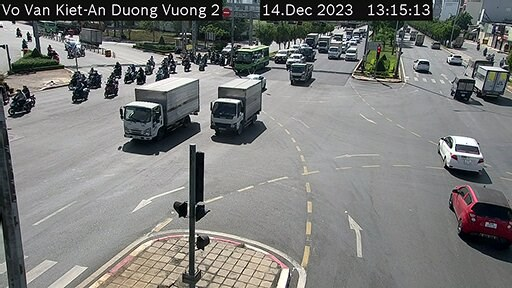bus: (235, 43, 269, 79)
car: (445, 183, 510, 241), (434, 131, 485, 172), (283, 51, 305, 66), (446, 52, 466, 66), (415, 56, 426, 78), (327, 46, 343, 61), (277, 44, 287, 67), (346, 47, 358, 65)
motorbike: (9, 88, 29, 114), (72, 84, 90, 102), (21, 84, 36, 101), (107, 80, 118, 97)
truck: (127, 83, 209, 137), (215, 75, 269, 138), (475, 59, 506, 100), (446, 73, 477, 101), (73, 26, 106, 46)
